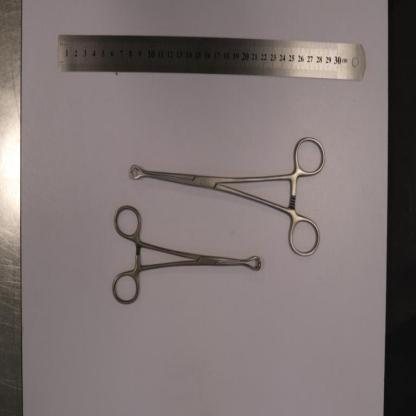8 Babcock Tissue Forceps: (130, 139, 325, 257)
Babcock Tissue Forceps: (114, 204, 260, 306)
